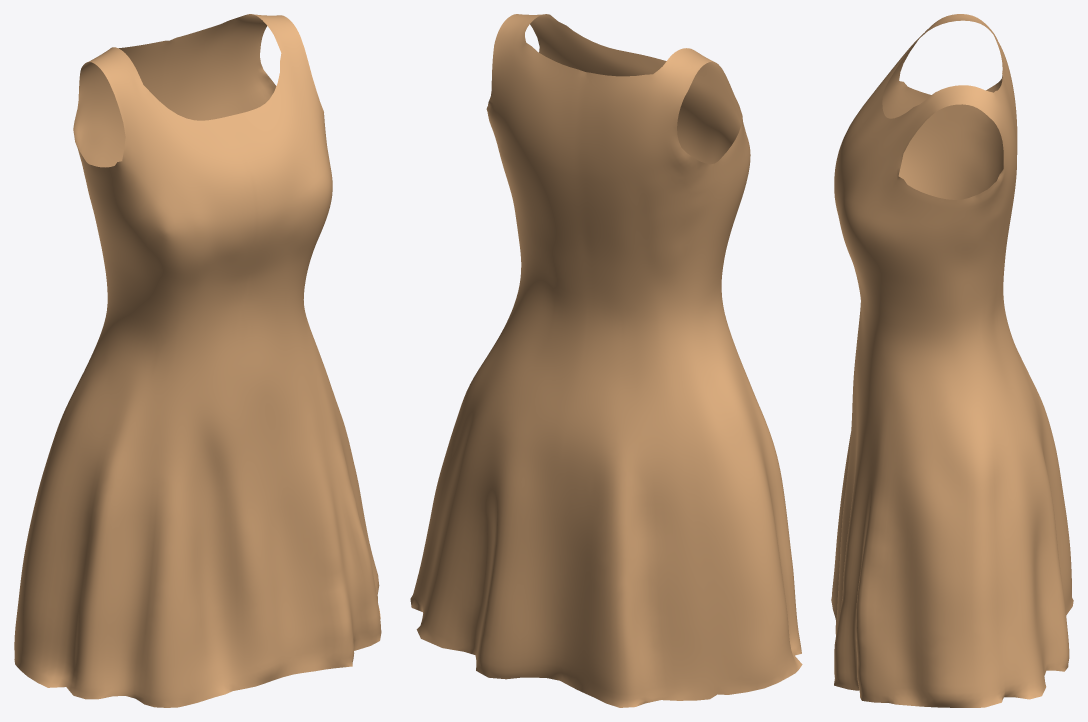
File: skirt.obj
3 views of the same model, side by side, from view 1: azimuth 30°, elevation 25°; view 2: azimuth 150°, elevation 25°; view 3: azimuth 270°, elevation 25° (orthographic). The views are drawn at different scales.
Visible parts, largest first — view 1: mod_L1; view 2: mod_L1; view 3: mod_L1.
Part boxes in pixels (x1,y1,x2,y2): mod_L1: (14, 14, 381, 707); mod_L1: (410, 14, 802, 707); mod_L1: (831, 14, 1073, 707).
Size of the model in its own units: 0.4591 by 0.7511 by 0.2805.
